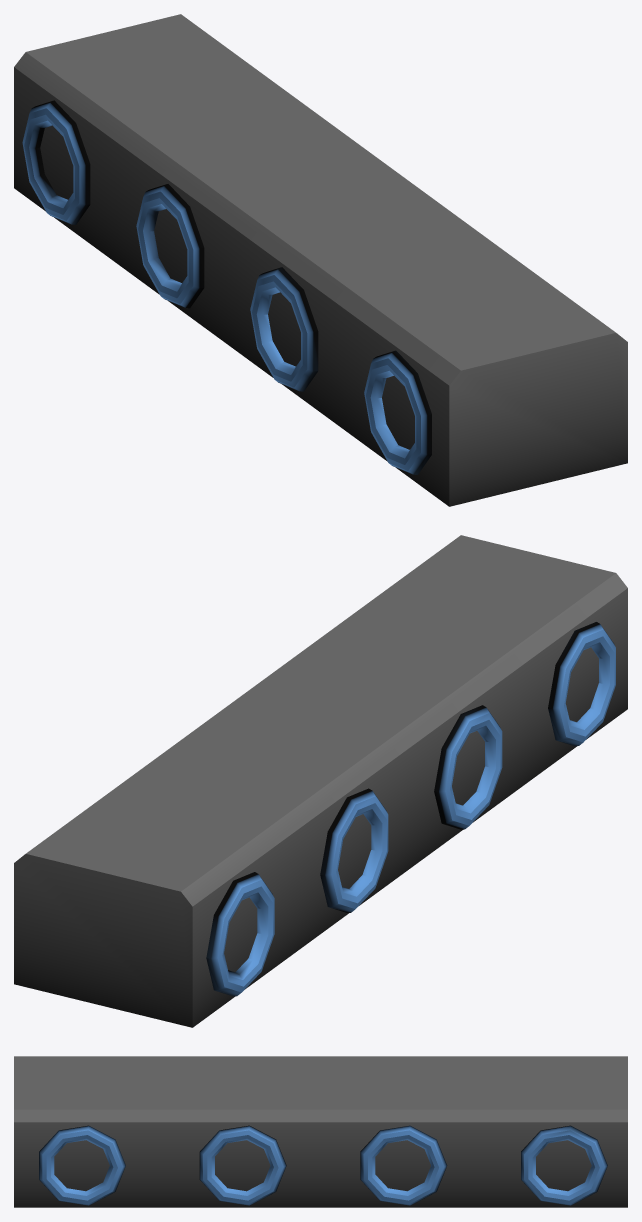
File: Pentablock.fbx
The picture shows the model from 3 angles, top to bottom: view 1: azimuth 30°, elevation 25°; view 2: azimuth 150°, elevation 25°; view 3: azimuth 270°, elevation 25°; orthographic projection. The views are drawn at different scales.
Visible parts, largest first — view 1: Torus.001; view 2: Torus.001; view 3: Torus.001.
Part boxes in pixels (<box>): Torus.001: <box>14,14,627,506</box>; Torus.001: <box>14,535,627,1027</box>; Torus.001: <box>14,1056,627,1207</box>.
Size of the model in its own units: 218 by 143 by 844.
